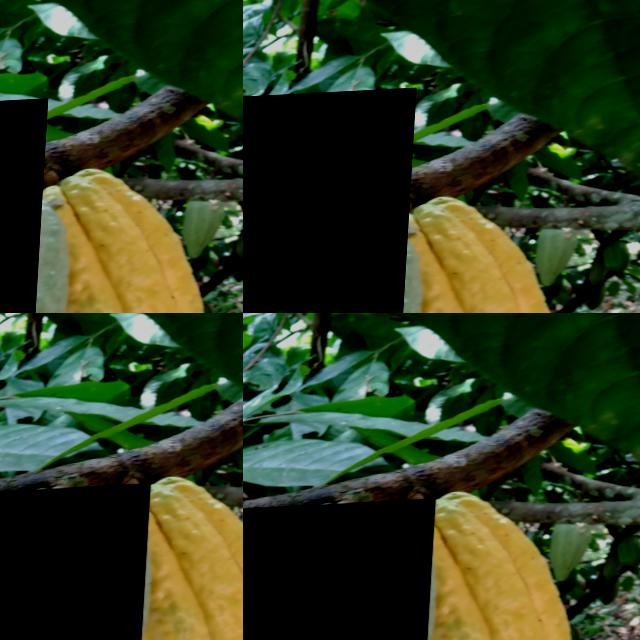Fitoftora: (243, 91, 418, 313)
Monilia: (0, 102, 50, 313)
Sana: (382, 484, 588, 640), (243, 503, 438, 640), (97, 469, 243, 640), (0, 488, 153, 640)
